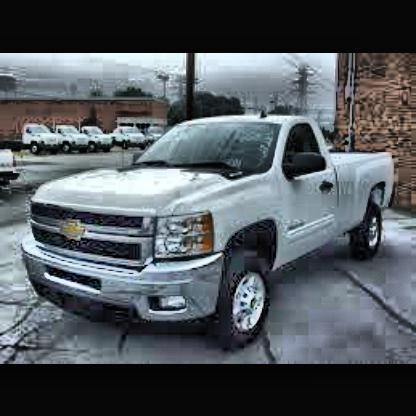Chevrolet Silverado 2500HD Regular Cab 2012: (22, 108, 399, 347)
